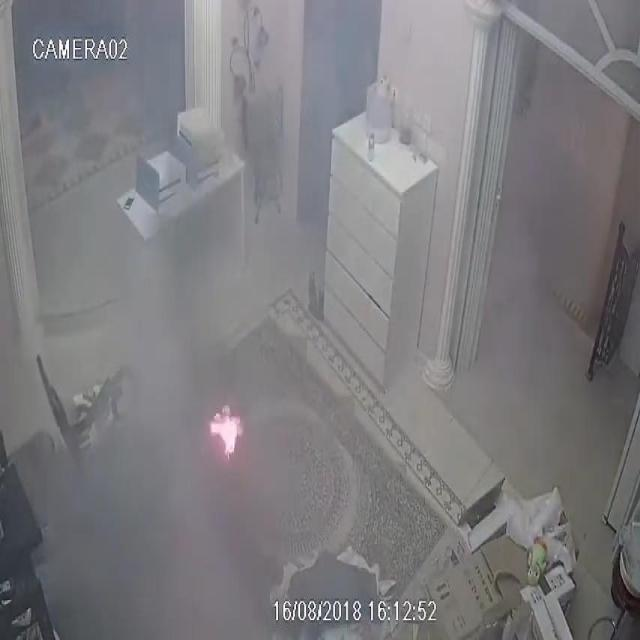fire: (209, 405, 242, 456)
